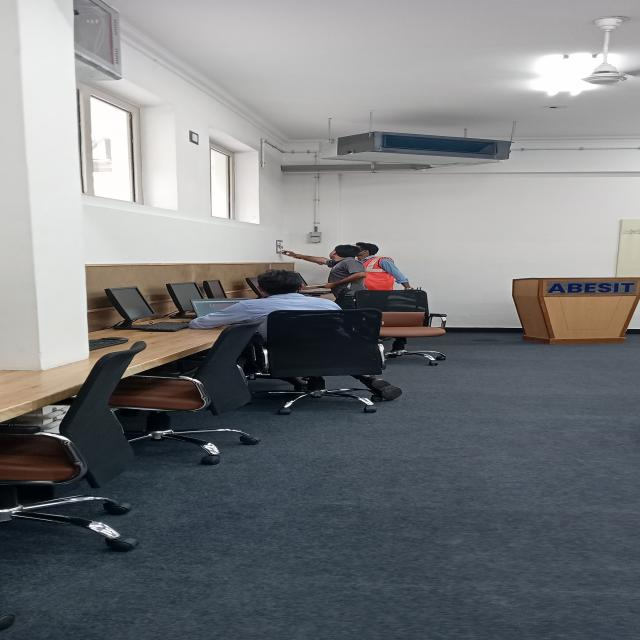unsafe: (314, 245, 368, 305)
